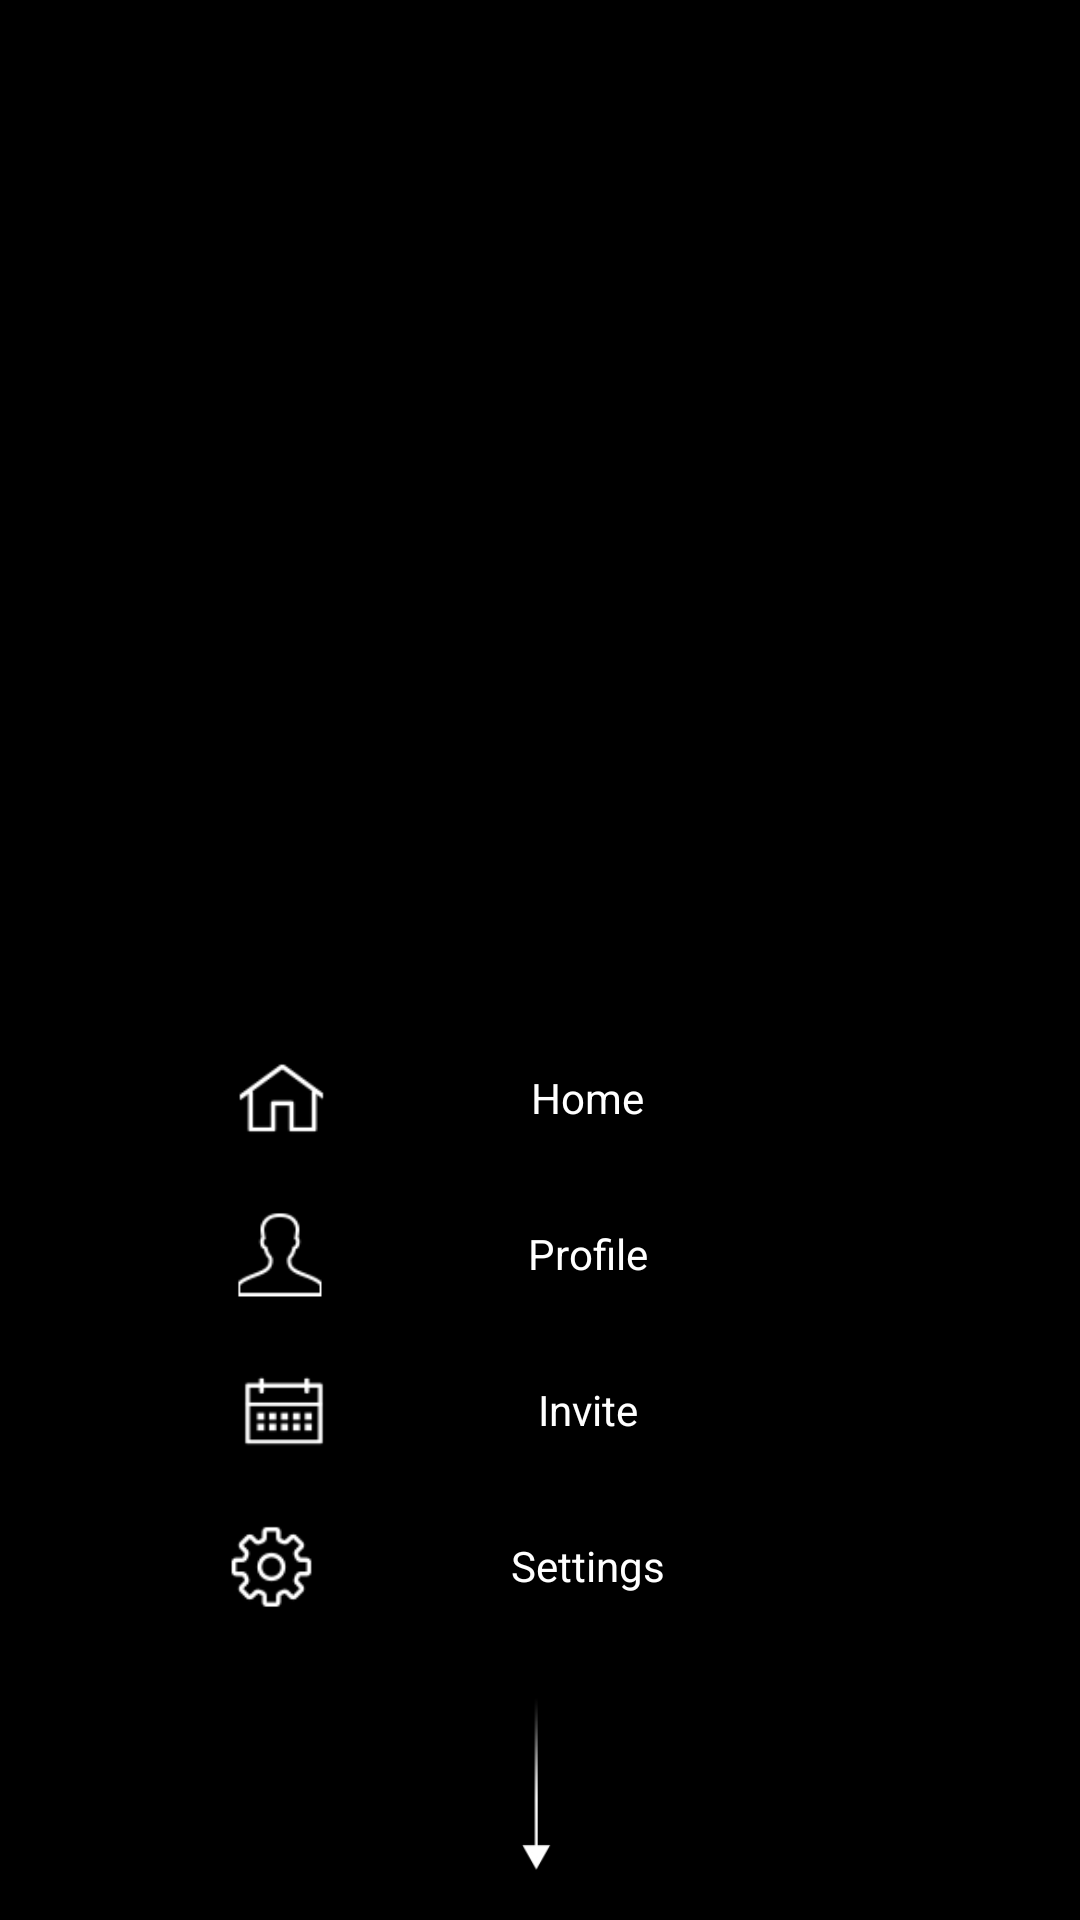

Screen size 1080 × 1920. Icon name, then its box in pixels as (left=x1, top=y1, right=x2, bottom=y2):
downarrow: (left=522, top=1712, right=550, bottom=1870)
event highlight: (left=245, top=1377, right=323, bottom=1445)
user highlight: (left=238, top=1213, right=322, bottom=1297)
